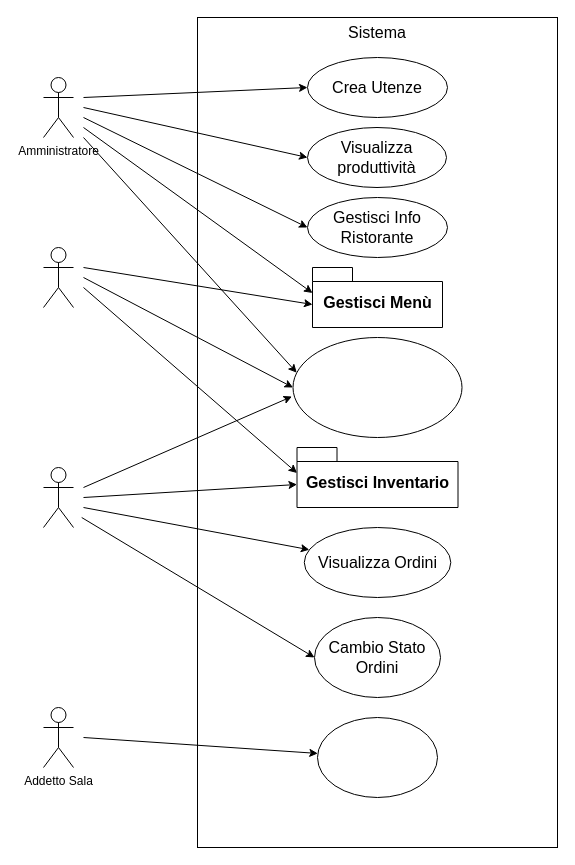
This 575x865 diagram has some shape labels left out. Here are the shapes that lost their labels. From the top down, the centre of each, then its label:
(58,277): Supervisore
(377,387): Associa ingredienti a elem. menù
(58,497): Addetto Cucina
(377,757): Registra Ordini
